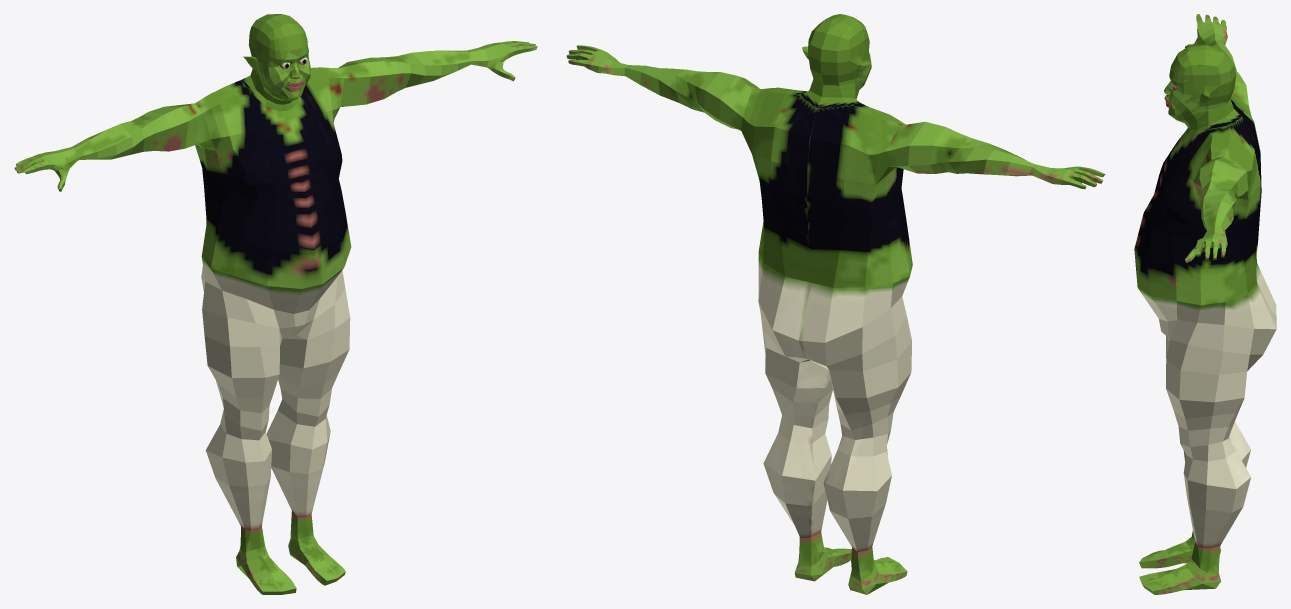
The model's file is srk.obj.
3 renders of one model, left to right at view 1: azimuth 30°, elevation 25°; view 2: azimuth 150°, elevation 25°; view 3: azimuth 270°, elevation 25°, orthographic. The views are drawn at different scales.
Visible parts, largest first — view 1: srk; view 2: srk; view 3: srk.
Part boxes in pixels (<box>): srk: <box>14,14,537,594</box>; srk: <box>566,14,1105,594</box>; srk: <box>1134,14,1276,594</box>.
Size of the model in its own units: 1.75 by 1.78 by 0.4344.
1 material, 1 textured.
